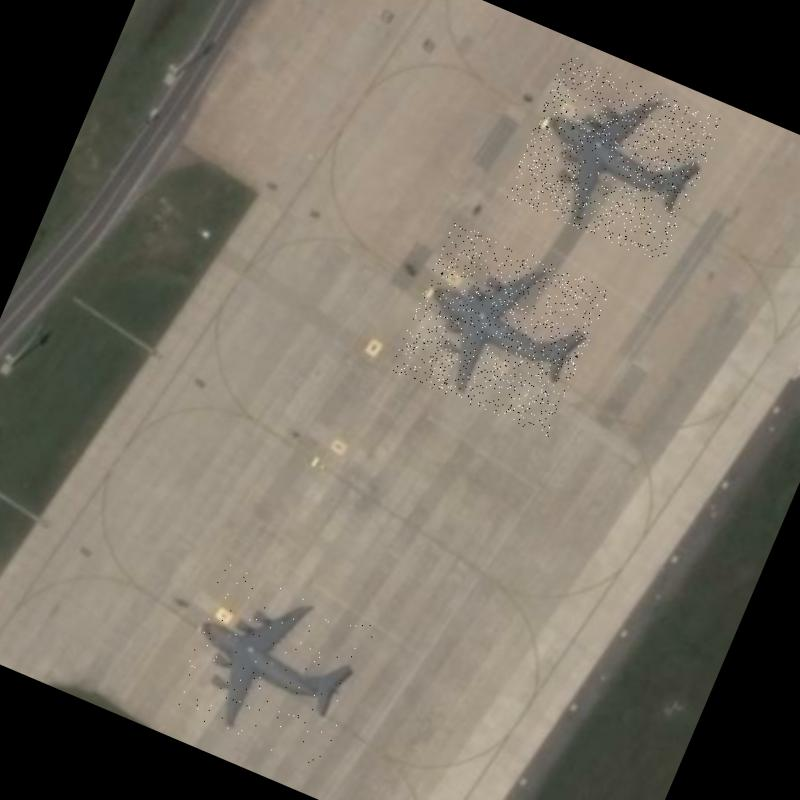A3: (389, 222, 612, 438), (504, 53, 724, 265), (164, 562, 379, 770)
